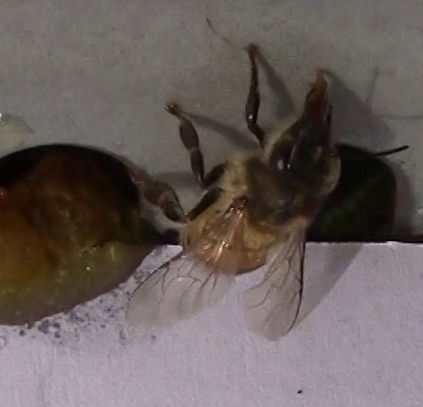Varroa destructor: (302, 195, 320, 218)
